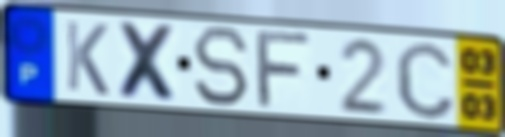2: (336, 36, 390, 118)
C: (393, 38, 458, 122)
F: (254, 29, 316, 111)
K: (63, 18, 112, 99)
S: (190, 24, 251, 109)
X: (114, 18, 183, 106)
